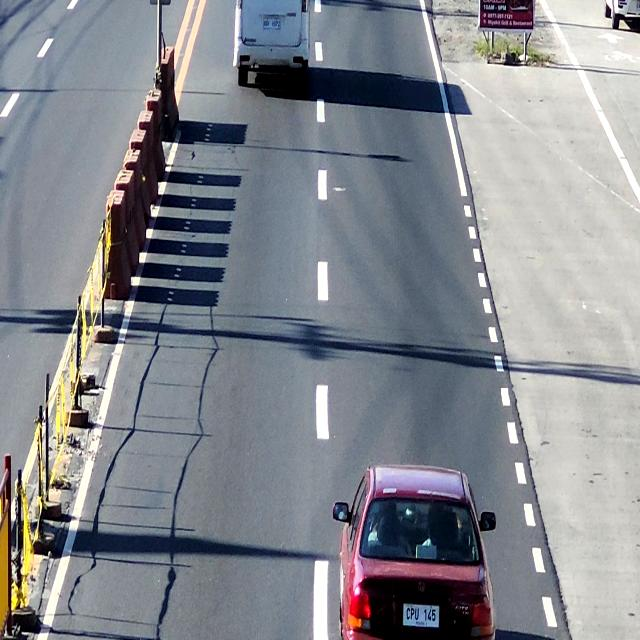Car: (324, 472, 500, 640), (234, 0, 308, 84)
License-Plate: (403, 596, 441, 631), (261, 14, 280, 30)
